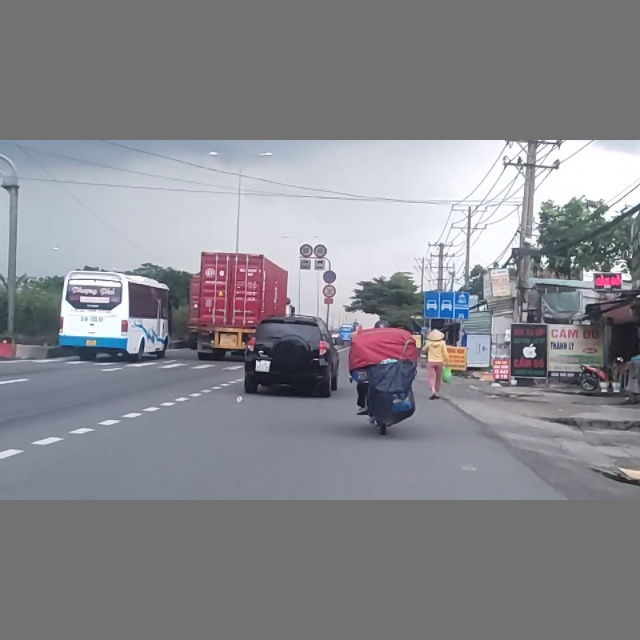P.111: (323, 285, 336, 298)
P.130: (322, 269, 337, 283)
R.415a: (423, 291, 469, 320)
